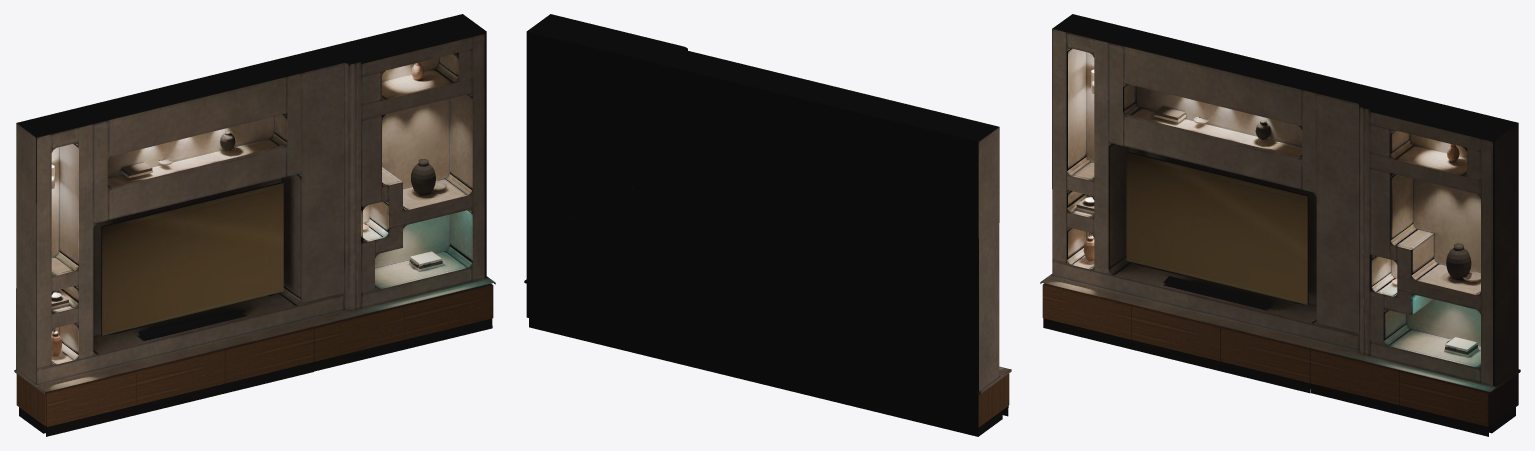
The model's file is ent_center_bar_lod1.glb.
The picture shows the model from 3 angles, left to right: view 1: azimuth 30°, elevation 25°; view 2: azimuth 150°, elevation 25°; view 3: azimuth 330°, elevation 25°; orthographic projection.
Parts seen in each view (by area): view 1: ent_body, ent_dark, ent_walnut, ent_decor; view 2: ent_body, ent_walnut, ent_dark; view 3: ent_body, ent_dark, ent_walnut, ent_decor.
Part boxes in pixels (bbox=[...]): ent_body: bbox=[14, 14, 495, 393]; ent_dark: bbox=[19, 182, 492, 436]; ent_walnut: bbox=[16, 283, 493, 426]; ent_decor: bbox=[51, 62, 446, 356]; ent_body: bbox=[524, 14, 1011, 394]; ent_walnut: bbox=[526, 283, 1009, 427]; ent_dark: bbox=[529, 318, 1008, 436]; ent_body: bbox=[1040, 14, 1520, 393]; ent_dark: bbox=[1043, 152, 1515, 436]; ent_walnut: bbox=[1042, 283, 1518, 426]; ent_decor: bbox=[1076, 69, 1480, 357].
Bounding box in the file's own units: 4.1 × 2.55 × 0.4825.
Materials: 5 (4 with a texture image).
